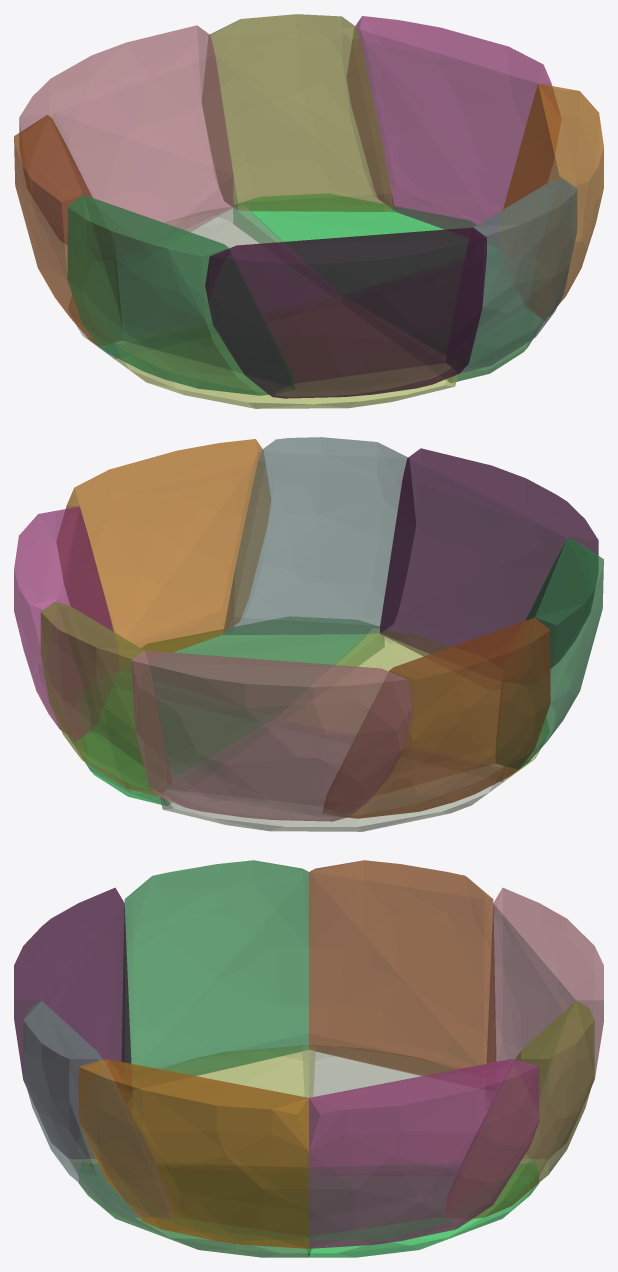
3 views of the same model, one above another, from view 1: azimuth 30°, elevation 25°; view 2: azimuth 150°, elevation 25°; view 3: azimuth 270°, elevation 25° (orthographic).
Visible parts, largest first — view 1: Shape_IndexedFaceSet.009, Shape_IndexedFaceSet.007, Shape_IndexedFaceSet.004, Shape_IndexedFaceSet.006, Shape_IndexedFaceSet.008, Shape_IndexedFaceSet.002, Shape_IndexedFaceSet.011, Shape_IndexedFaceSet.010, Shape_IndexedFaceSet.001, Shape_IndexedFaceSet, Shape_IndexedFaceSet.005, Shape_IndexedFaceSet.003; view 2: Shape_IndexedFaceSet.004, Shape_IndexedFaceSet.011, Shape_IndexedFaceSet.009, Shape_IndexedFaceSet.010, Shape_IndexedFaceSet.005, Shape_IndexedFaceSet, Shape_IndexedFaceSet.007, Shape_IndexedFaceSet.006, Shape_IndexedFaceSet.003, Shape_IndexedFaceSet.002, Shape_IndexedFaceSet.008, Shape_IndexedFaceSet.001; view 3: Shape_IndexedFaceSet.008, Shape_IndexedFaceSet.005, Shape_IndexedFaceSet.011, Shape_IndexedFaceSet.007, Shape_IndexedFaceSet.004, Shape_IndexedFaceSet.009, Shape_IndexedFaceSet, Shape_IndexedFaceSet.002, Shape_IndexedFaceSet.010, Shape_IndexedFaceSet.006, Shape_IndexedFaceSet.001, Shape_IndexedFaceSet.003.
Part boxes in pixels (left/top/right/bottom): Shape_IndexedFaceSet.009: left=205, top=227, right=486, bottom=398; Shape_IndexedFaceSet.007: left=347, top=16, right=560, bottom=242; Shape_IndexedFaceSet.004: left=19, top=25, right=233, bottom=245; Shape_IndexedFaceSet.006: left=202, top=14, right=394, bottom=211; Shape_IndexedFaceSet.008: left=67, top=194, right=295, bottom=395; Shape_IndexedFaceSet.002: left=114, top=304, right=457, bottom=408; Shape_IndexedFaceSet.011: left=499, top=83, right=603, bottom=317; Shape_IndexedFaceSet.010: left=447, top=179, right=577, bottom=373; Shape_IndexedFaceSet.001: left=233, top=193, right=493, bottom=294; Shape_IndexedFaceSet: left=68, top=205, right=331, bottom=358; Shape_IndexedFaceSet.005: left=14, top=115, right=121, bottom=346; Shape_IndexedFaceSet.003: left=353, top=264, right=546, bottom=382; Shape_IndexedFaceSet.004: left=131, top=650, right=412, bottom=821; Shape_IndexedFaceSet.011: left=57, top=439, right=270, bottom=666; Shape_IndexedFaceSet.009: left=380, top=448, right=598, bottom=669; Shape_IndexedFaceSet.010: left=223, top=437, right=415, bottom=634; Shape_IndexedFaceSet.005: left=322, top=617, right=550, bottom=818; Shape_IndexedFaceSet: left=160, top=727, right=503, bottom=831; Shape_IndexedFaceSet.007: left=14, top=506, right=118, bottom=740; Shape_IndexedFaceSet.006: left=40, top=602, right=170, bottom=796; Shape_IndexedFaceSet.003: left=124, top=616, right=384, bottom=717; Shape_IndexedFaceSet.002: left=286, top=628, right=549, bottom=781; Shape_IndexedFaceSet.008: left=496, top=538, right=603, bottom=769; Shape_IndexedFaceSet.001: left=69, top=687, right=264, bottom=805; Shape_IndexedFaceSet.008: left=122, top=860, right=308, bottom=1078; Shape_IndexedFaceSet.005: left=309, top=860, right=495, bottom=1078; Shape_IndexedFaceSet.011: left=78, top=1059, right=308, bottom=1248; Shape_IndexedFaceSet.007: left=309, top=1059, right=539, bottom=1248; Shape_IndexedFaceSet.004: left=486, top=887, right=603, bottom=1158; Shape_IndexedFaceSet.009: left=14, top=887, right=131, bottom=1158; Shape_IndexedFaceSet: left=302, top=1046, right=547, bottom=1173; Shape_IndexedFaceSet.002: left=70, top=1046, right=315, bottom=1173; Shape_IndexedFaceSet.010: left=23, top=1000, right=172, bottom=1218; Shape_IndexedFaceSet.006: left=445, top=1000, right=594, bottom=1218; Shape_IndexedFaceSet.001: left=304, top=1161, right=539, bottom=1257; Shape_IndexedFaceSet.003: left=78, top=1161, right=314, bottom=1257.
Bounding box in the file's own units: 0.7018 × 0.2303 × 0.7017.
